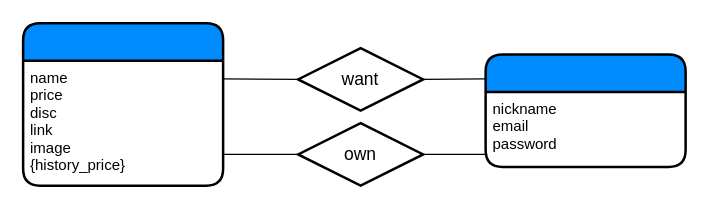
Image size: 708x208. Some labels were removed from this diagram. Here are the shapes that lost their labels. From the top down, the box of each, then its label:
(21, 21, 224, 186): game
(484, 52, 686, 168): user
